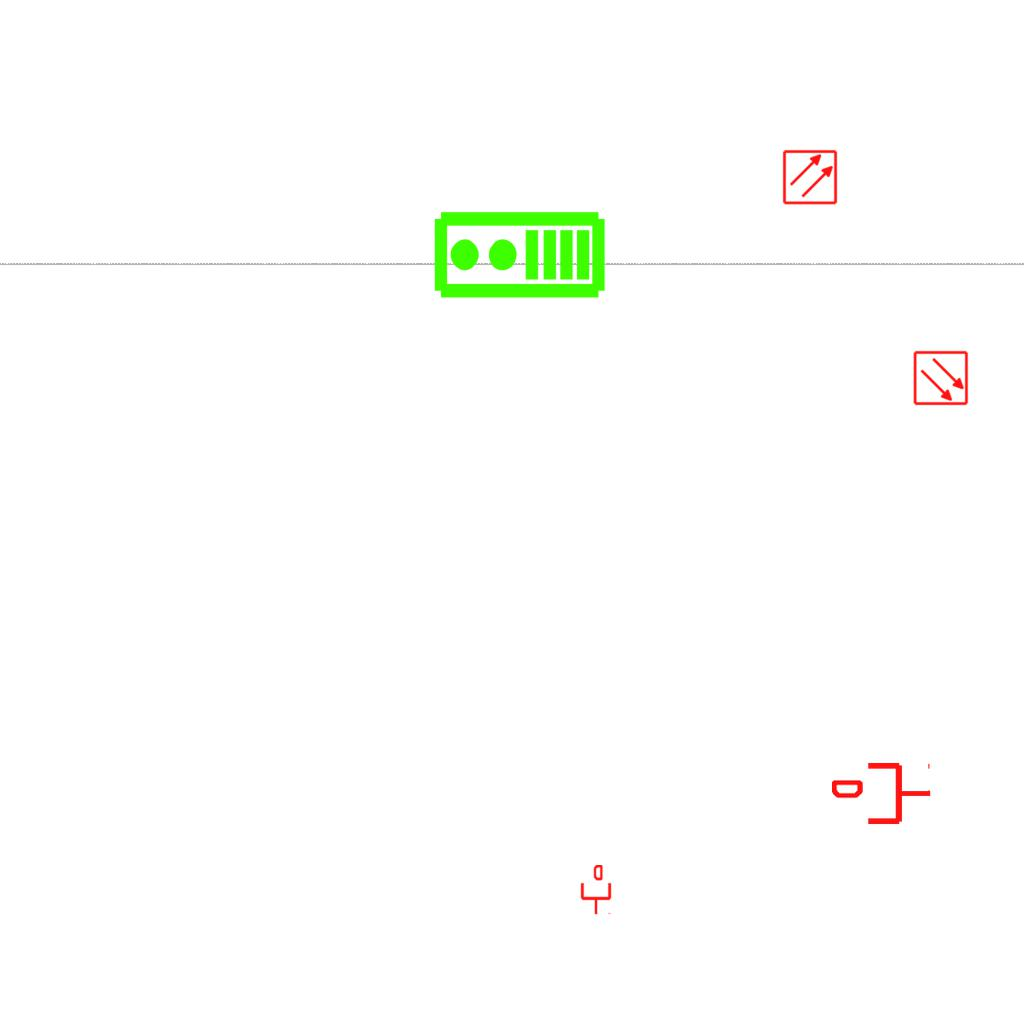Datenanschluss_einfach: (832, 759, 932, 828), (579, 865, 613, 915)
Gegensprechanlage_mit_Video: (431, 209, 607, 304)
RMO_Rauchmelder_optischer: (913, 350, 969, 406), (782, 149, 838, 205)
